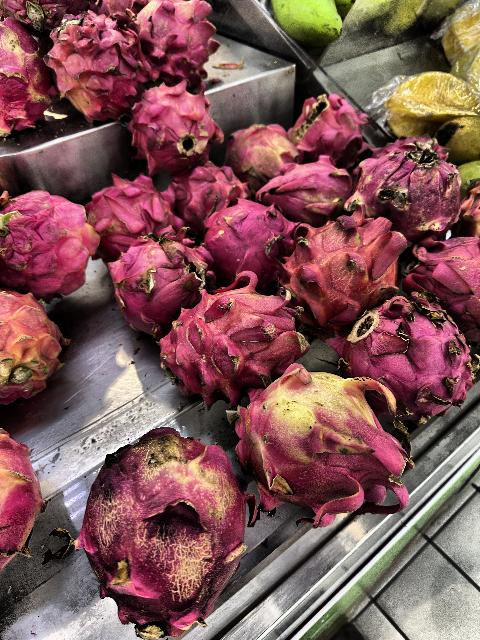buah-naga-belum-matang: (72, 426, 250, 636), (234, 362, 412, 512), (1, 426, 56, 562), (0, 290, 58, 384), (257, 166, 345, 217), (226, 123, 294, 175)
buah-naga-matang: (344, 296, 474, 408), (159, 289, 309, 377), (354, 140, 466, 248), (0, 188, 104, 292), (293, 208, 389, 312), (52, 12, 148, 112), (106, 242, 214, 324), (134, 4, 222, 84), (400, 228, 480, 316), (0, 17, 54, 133), (90, 179, 180, 247), (132, 92, 212, 168), (203, 202, 285, 276), (286, 84, 364, 160), (174, 166, 248, 212)
